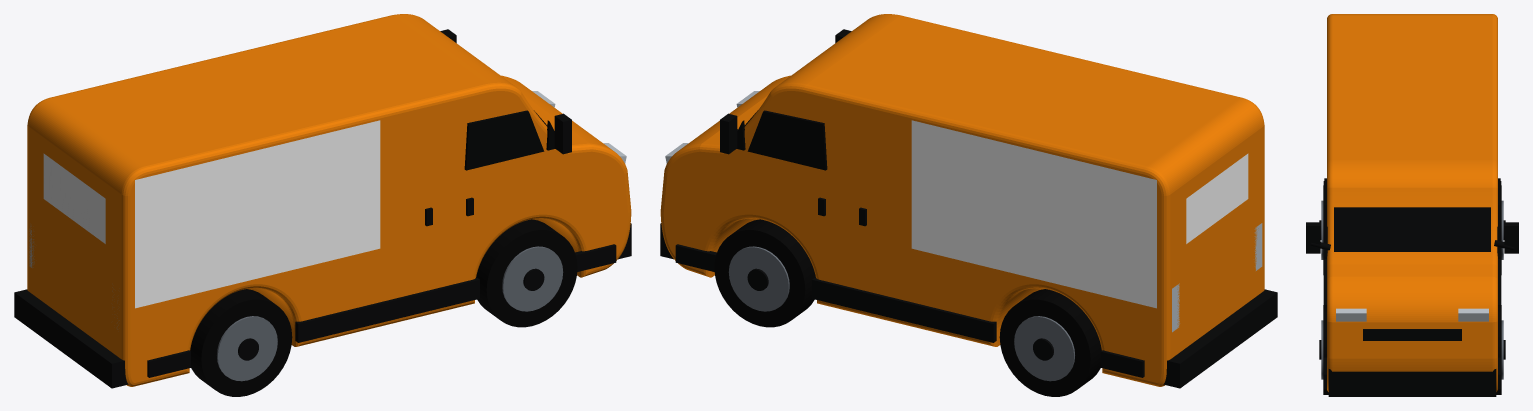
The model's file is panel-van.obj.
The picture shows the model from 3 angles, left to right: view 1: azimuth 30°, elevation 25°; view 2: azimuth 150°, elevation 25°; view 3: azimuth 270°, elevation 25°; orthographic projection. The views are drawn at different scales.
Visible parts, largest first — view 1: body_shell, brand_decal_r, tire_rear_r, tire_front_r, rocker_r, rear_bumper, door_window_r, brand_decal_rear, rim_front_r, rim_rear_r, fender_trim_r_r, fender_trim_f_r (+1 smaller); view 2: body_shell, brand_decal_l, tire_rear_l, tire_front_l, rocker_l, rear_bumper, door_window_l, brand_decal_rear, rim_front_l, rim_rear_l, fender_trim_r_l, fender_trim_f_l (+1 smaller); view 3: body_shell, windshield, front_bumper, grille, mirror_r, mirror_l, headlight_r, headlight_l, tire_front_r, tire_front_l, rocker_r, rocker_l.
Part boxes in pixels (x1,y1,x2,y2): body_shell: [27, 14, 631, 386]; brand_decal_r: [135, 120, 380, 308]; tire_rear_r: [190, 289, 292, 396]; tire_front_r: [476, 219, 577, 327]; rocker_r: [295, 277, 479, 342]; rear_bumper: [14, 289, 128, 388]; door_window_r: [464, 110, 544, 170]; brand_decal_rear: [43, 153, 105, 243]; rim_front_r: [502, 246, 563, 311]; rim_rear_r: [217, 316, 277, 381]; fender_trim_r_r: [147, 350, 190, 377]; fender_trim_f_r: [575, 244, 616, 271]; body_shell: [660, 14, 1264, 386]; brand_decal_l: [911, 120, 1156, 308]; tire_rear_l: [999, 289, 1101, 396]; tire_front_l: [714, 219, 815, 327]; rocker_l: [812, 277, 996, 342]; rear_bumper: [1163, 289, 1277, 388]; door_window_l: [747, 110, 827, 170]; brand_decal_rear: [1186, 153, 1248, 243]; rim_front_l: [728, 246, 789, 311]; rim_rear_l: [1014, 316, 1074, 381]; fender_trim_r_l: [1101, 350, 1144, 377]; fender_trim_f_l: [675, 244, 716, 271]; body_shell: [1327, 14, 1497, 391]; windshield: [1334, 207, 1490, 251]; front_bumper: [1328, 369, 1496, 396]; grille: [1363, 329, 1461, 340]; mirror_r: [1306, 222, 1320, 253]; mirror_l: [1504, 222, 1518, 253]; headlight_r: [1336, 308, 1366, 321]; headlight_l: [1458, 308, 1488, 321]; tire_front_r: [1323, 305, 1328, 394]; tire_front_l: [1496, 305, 1501, 394]; rocker_r: [1323, 242, 1326, 304]; rocker_l: [1498, 248, 1501, 304].
Size of the model in its own units: 5.73 by 2.62 by 2.36.
